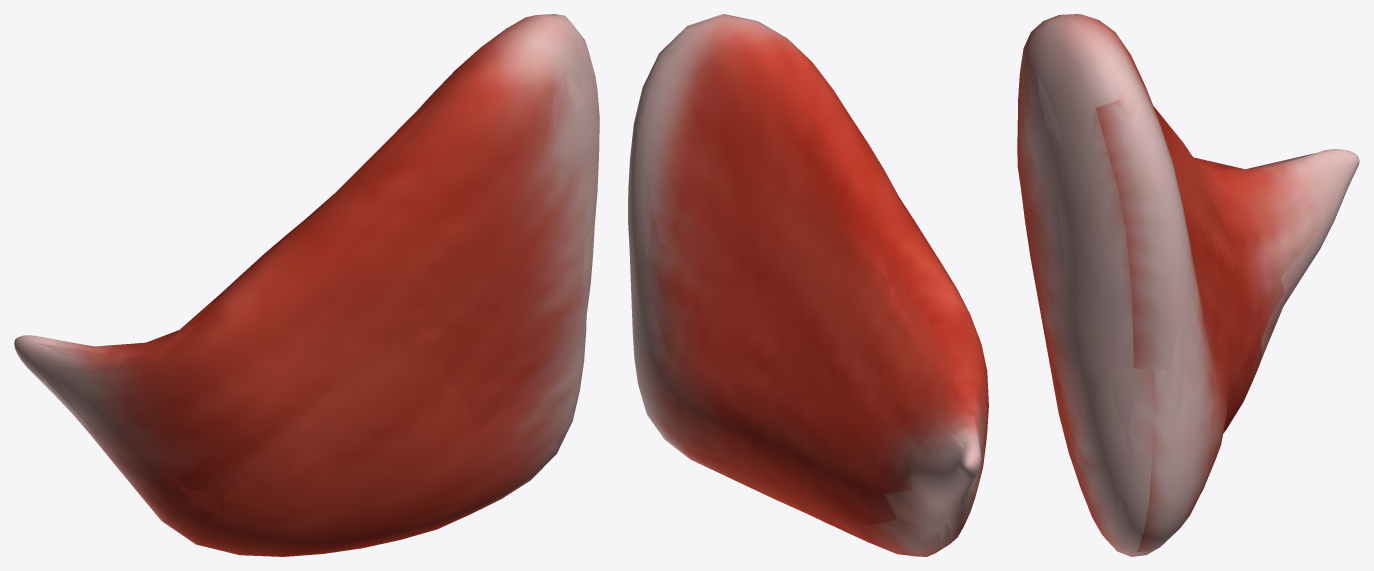
The model's file is R Pectoralis descendens.fbx.
3 renders of one model, left to right at view 1: azimuth 30°, elevation 25°; view 2: azimuth 150°, elevation 25°; view 3: azimuth 270°, elevation 25°, orthographic. The views are drawn at different scales.
Parts seen in each view (by area): view 1: R Pectoralis descendens, R Pectoralis descendens low; view 2: R Pectoralis descendens, R Pectoralis descendens low; view 3: R Pectoralis descendens, R Pectoralis descendens low.
Part boxes in pixels (x1,y1,x2,y2): R Pectoralis descendens: (14, 14, 599, 556); R Pectoralis descendens low: (30, 20, 597, 556); R Pectoralis descendens: (628, 14, 988, 556); R Pectoralis descendens low: (629, 25, 984, 556); R Pectoralis descendens: (1017, 14, 1359, 556); R Pectoralis descendens low: (1017, 16, 1355, 553).
Size of the model in its own units: 16.95 by 17.36 by 9.54.
